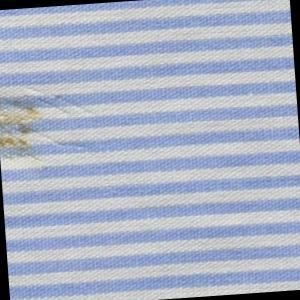Damage: (1, 79, 107, 166)
Oil Stain: (1, 84, 49, 168)
